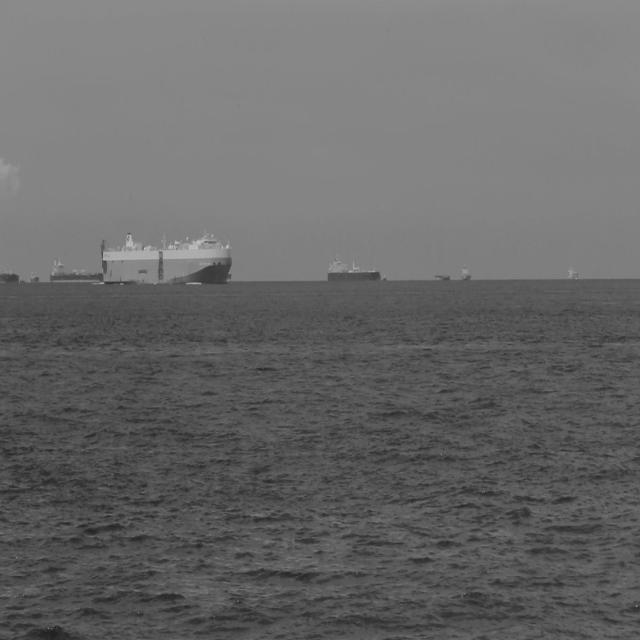ship: (99, 228, 232, 286), (327, 252, 381, 282), (49, 255, 102, 282), (0, 262, 19, 284), (566, 262, 580, 280), (434, 270, 451, 282), (460, 264, 472, 281), (30, 268, 40, 286), (224, 268, 232, 282), (19, 278, 27, 288), (382, 272, 387, 280)
